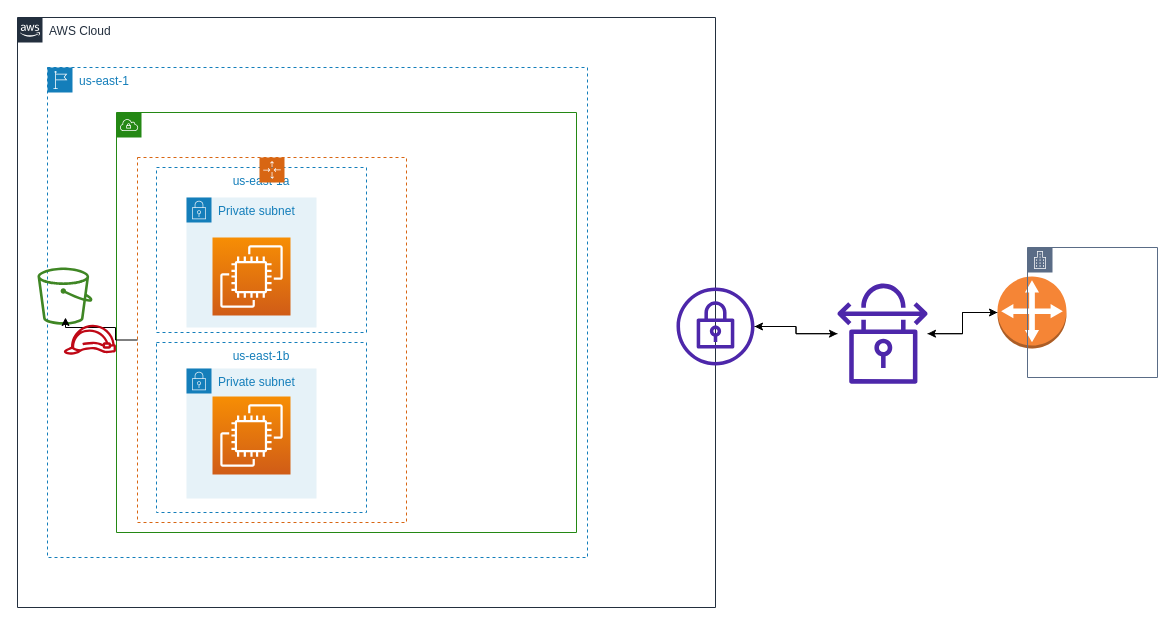
This 1175x625 diagram has some shape labels left out. The box of each missing label's shape, as (x1, y1, x2, y2) in pixels:
Auto Scaling group: (136, 156, 406, 522)
Corporate data center: (1026, 246, 1158, 378)
Original VPC: (116, 112, 576, 532)
